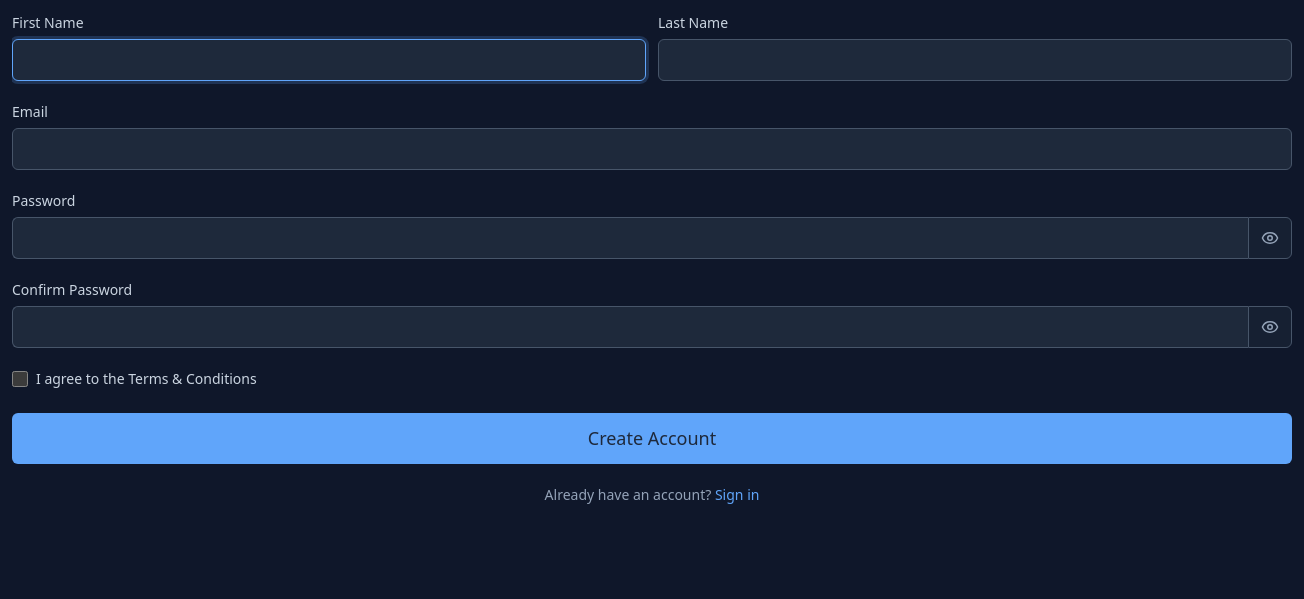
RegisterForm › validation › shows password strength error for weak password
The width and height of the screenshot is (1304, 599).
Type "test@example.com" into the field labelled "Email". click: {"x": 652, "y": 149}
box: x1=12 y1=128 x2=1292 y2=170
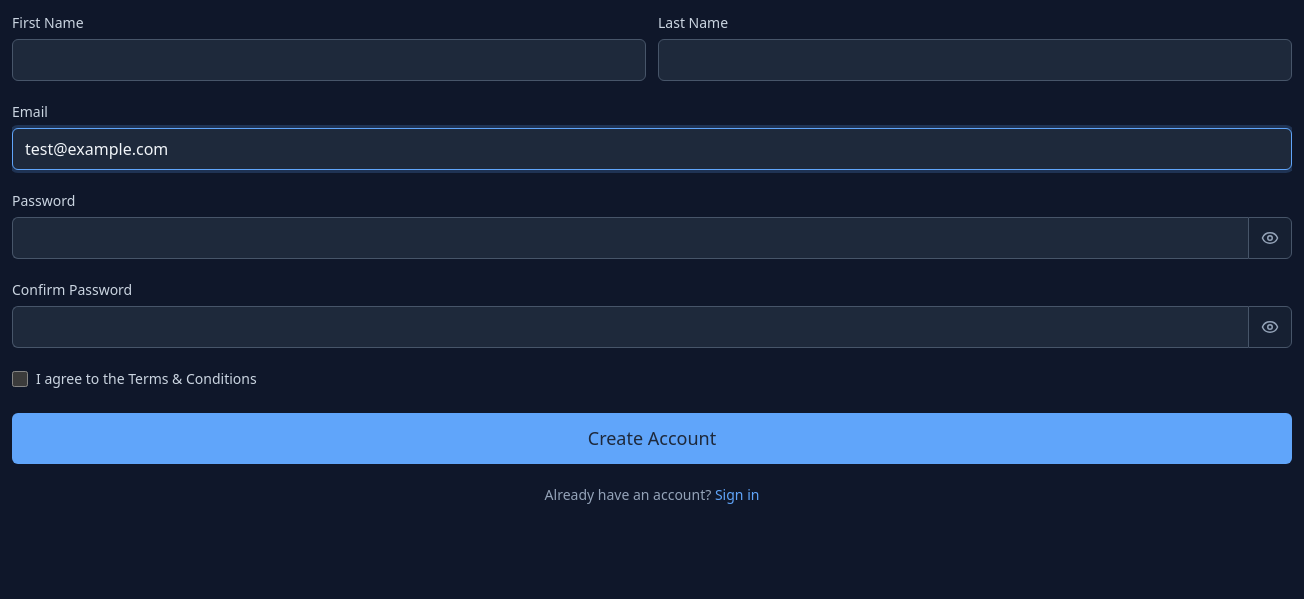
Type "weak" into the password field labelled "Password". click: {"x": 630, "y": 238}
box: x1=12 y1=217 x2=1248 y2=259
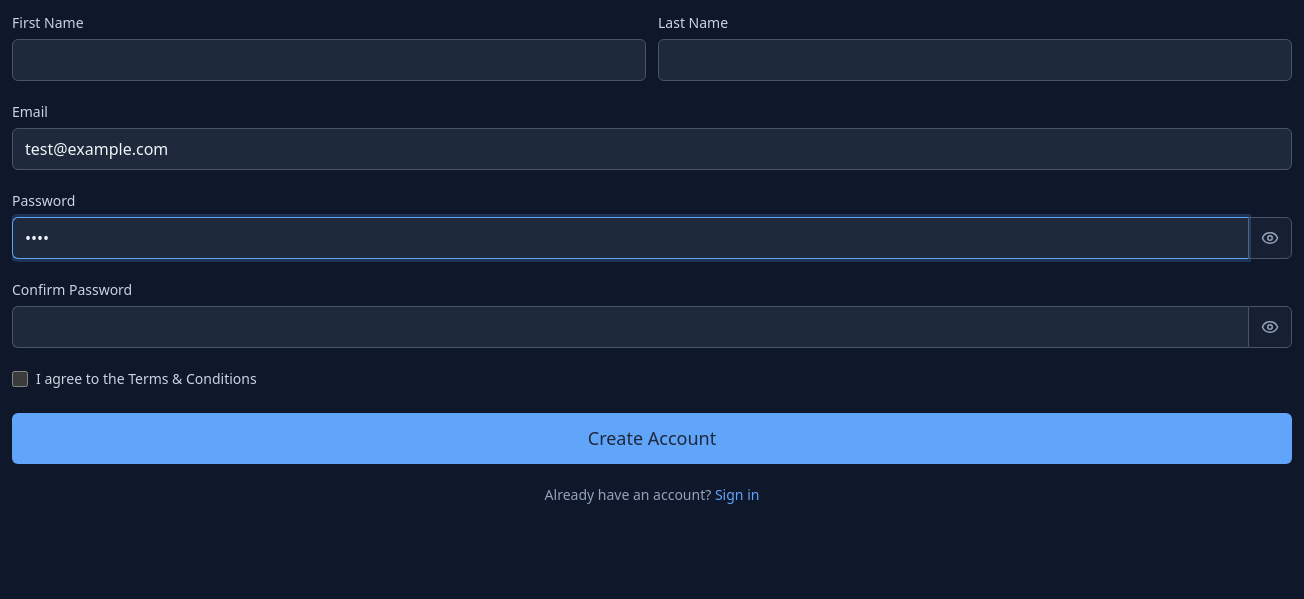
Click the button "Create Account". click: {"x": 652, "y": 438}
box: x1=12 y1=413 x2=1292 y2=464
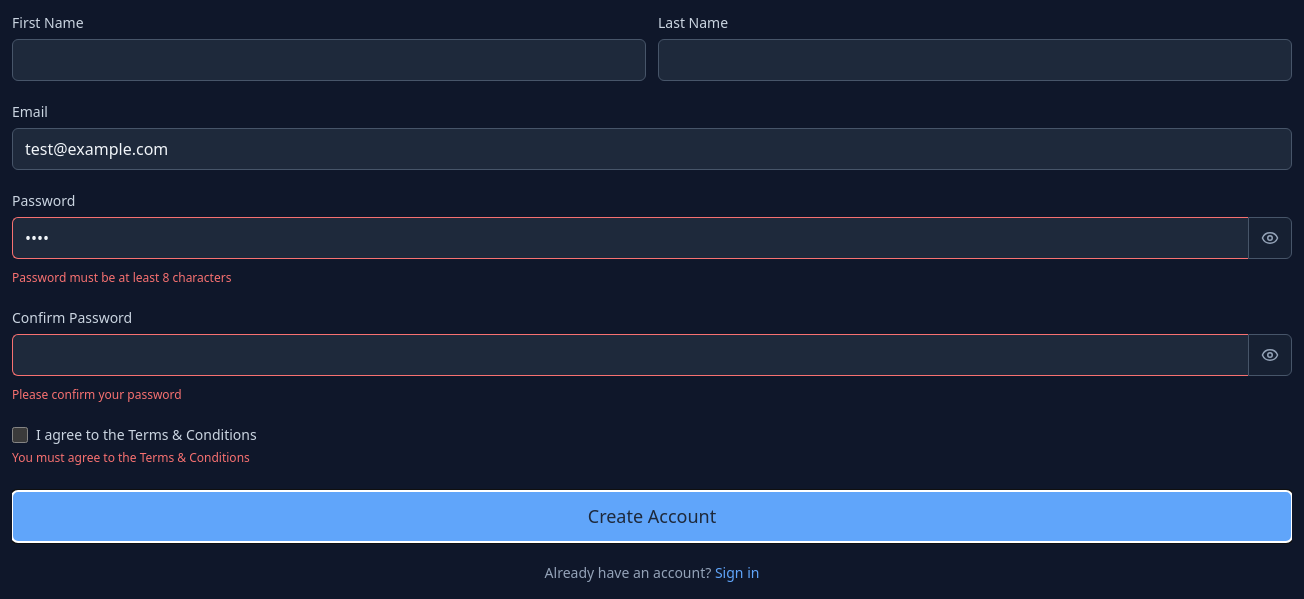
Expected: the text "Password must be at least 8 characters" is shown, x1=12 y1=269 x2=231 y2=286
